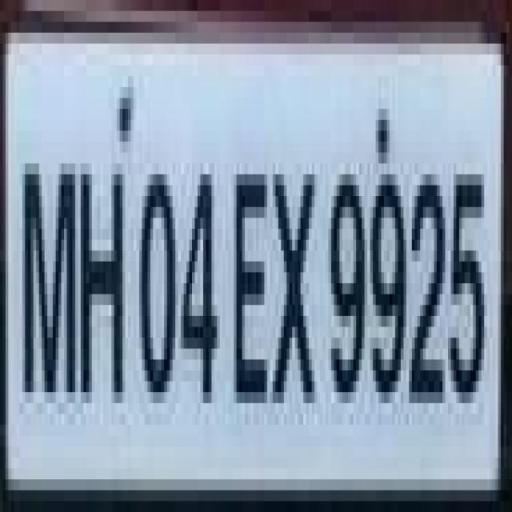number plate: (3, 0, 492, 512)
